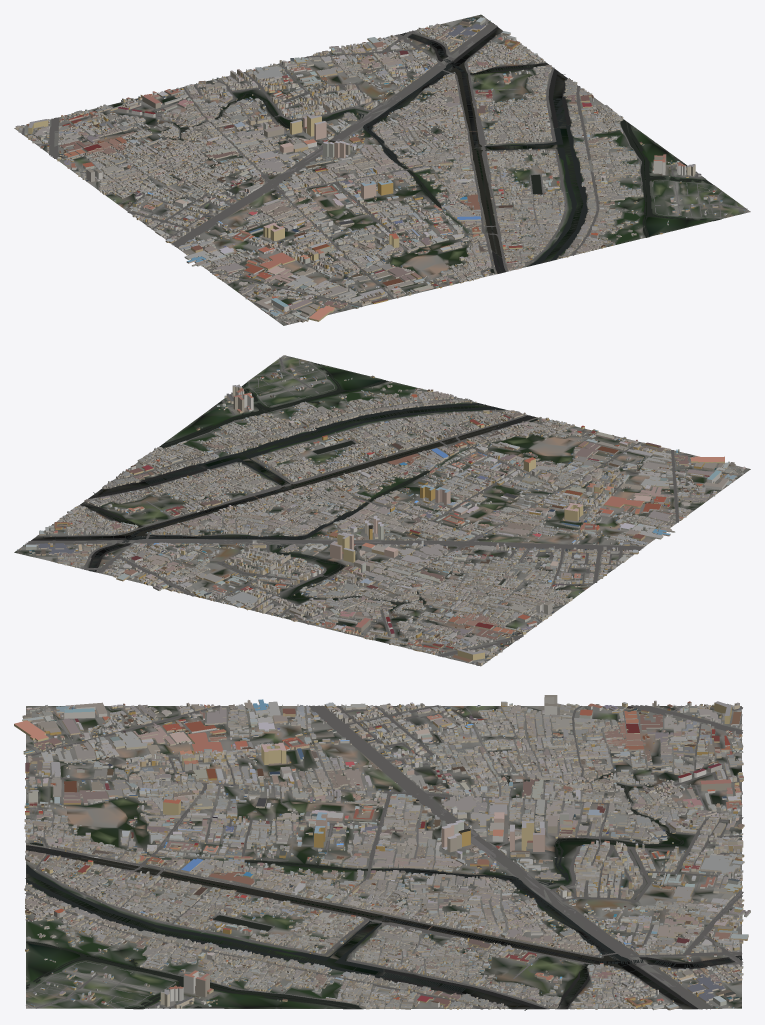
The picture shows the model from 3 angles, top to bottom: view 1: azimuth 30°, elevation 25°; view 2: azimuth 150°, elevation 25°; view 3: azimuth 270°, elevation 25°; orthographic projection. The views are drawn at different scales.
Visible parts, largest first — view 1: buildings, ground, roads, water; view 2: buildings, ground, roads, water; view 3: buildings, ground, roads, water.
Boxes of the visible parts, <box> form: buildings: <box>15,16,748,324</box>; ground: <box>14,14,750,325</box>; roads: <box>22,20,748,324</box>; water: <box>173,27,719,273</box>; buildings: <box>17,355,745,665</box>; ground: <box>14,355,750,666</box>; roads: <box>22,356,746,665</box>; water: <box>31,363,537,603</box>; buildings: <box>14,695,750,1010</box>; ground: <box>26,706,741,1009</box>; roads: <box>25,705,743,1009</box>; water: <box>25,775,742,1010</box>.
Size of the model in its own units: 2867 by 108 by 2883.
